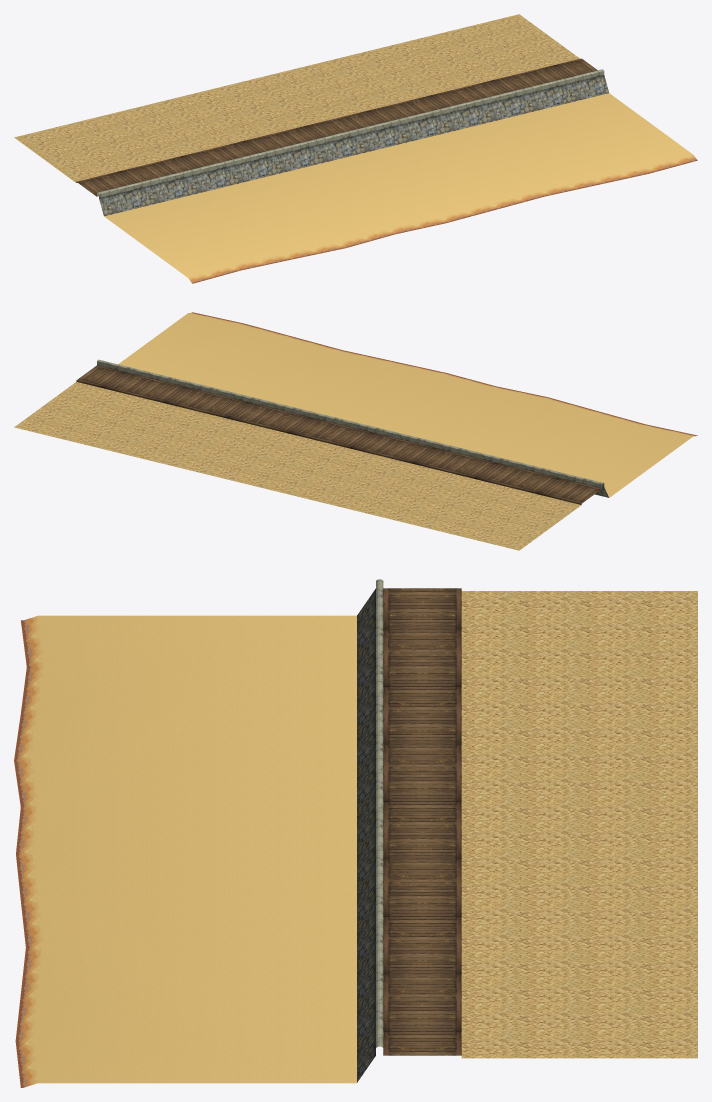
File: Dock_1x3.FBX
3 renders of one model, top to bottom at view 1: azimuth 30°, elevation 25°; view 2: azimuth 150°, elevation 25°; view 3: azimuth 270°, elevation 25°, orthographic. The views are drawn at different scales.
Parts seen in each view (by area): view 1: Dock_1x3; view 2: Dock_1x3; view 3: Dock_1x3.
Boxes of the visible parts, x1,y1,x2,y2 form: Dock_1x3: (14,14,697,283); Dock_1x3: (14,312,697,550); Dock_1x3: (14,579,697,1087).
Size of the model in its own units: 86.64 by 53.58 by 3.57.
